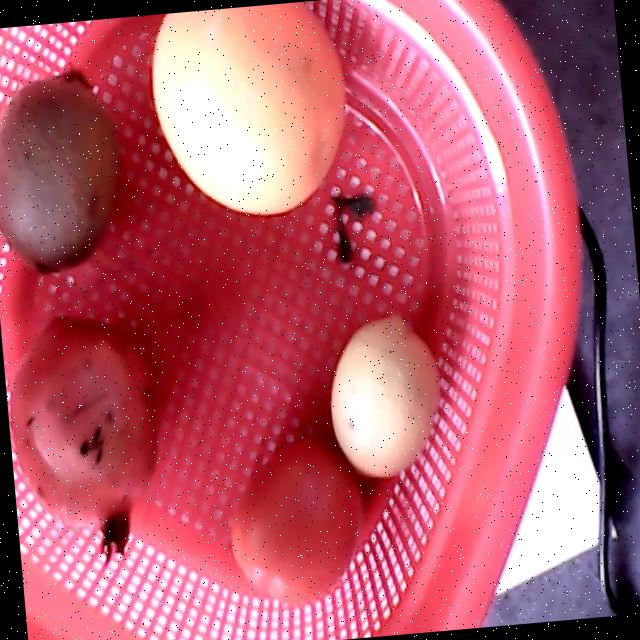kiwi: (0, 71, 114, 273)
lemon: (331, 318, 440, 475)
orange: (148, 1, 345, 215)
pomegranate: (9, 312, 157, 562)
tomato: (231, 437, 362, 606)
